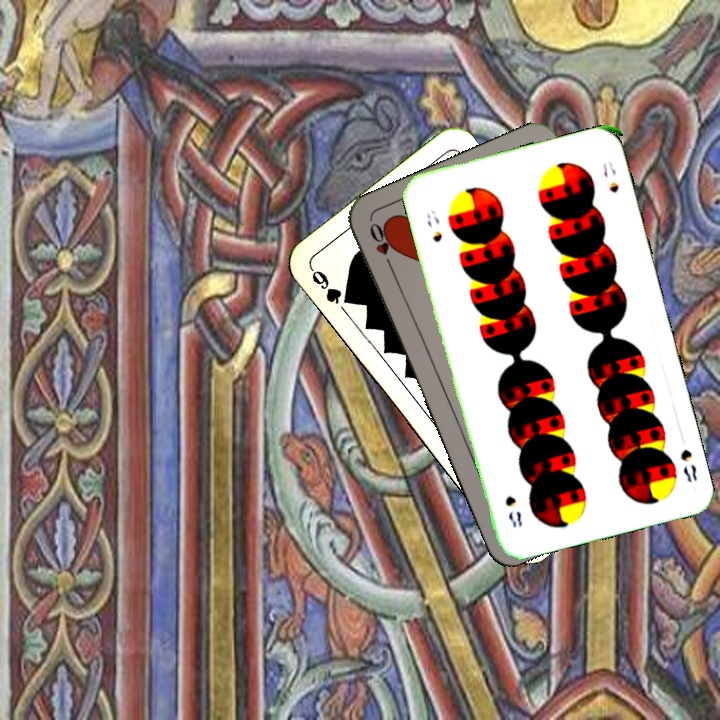G9: (306, 264, 356, 307)
HO: (365, 218, 397, 275)
S8: (676, 444, 700, 485), (422, 206, 445, 245)
